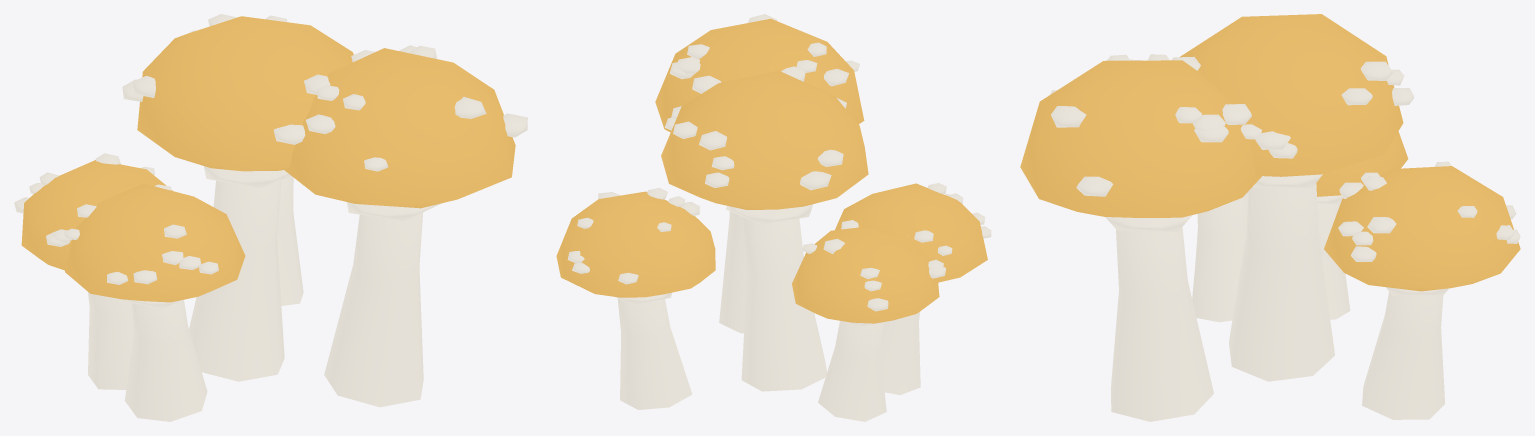
Rendered from Blender_Toadstool_RedGroup.glb.
The picture shows the model from 3 angles, left to right: view 1: azimuth 30°, elevation 25°; view 2: azimuth 150°, elevation 25°; view 3: azimuth 270°, elevation 25°; orthographic projection. The views are drawn at different scales.
Parts seen in each view (by area): view 1: Blender_Toadstool_RedGroup; view 2: Blender_Toadstool_RedGroup; view 3: Blender_Toadstool_RedGroup.
Part boxes in pixels (box(x1,y1,x2,y2)): Blender_Toadstool_RedGroup: box(14, 14, 527, 421); Blender_Toadstool_RedGroup: box(556, 14, 991, 421); Blender_Toadstool_RedGroup: box(1020, 14, 1520, 421).
Size of the model in its own units: 0.9564 by 0.7902 by 1.03.
